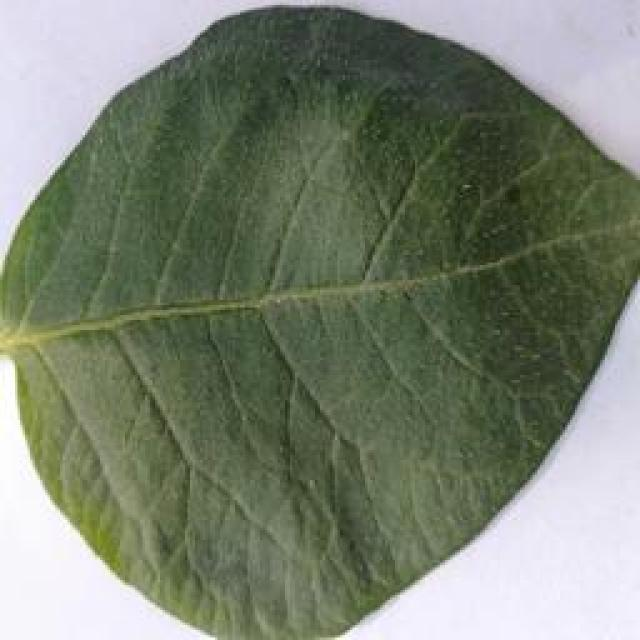Potato_Healthy: (6, 11, 622, 628), (367, 4, 639, 113)
